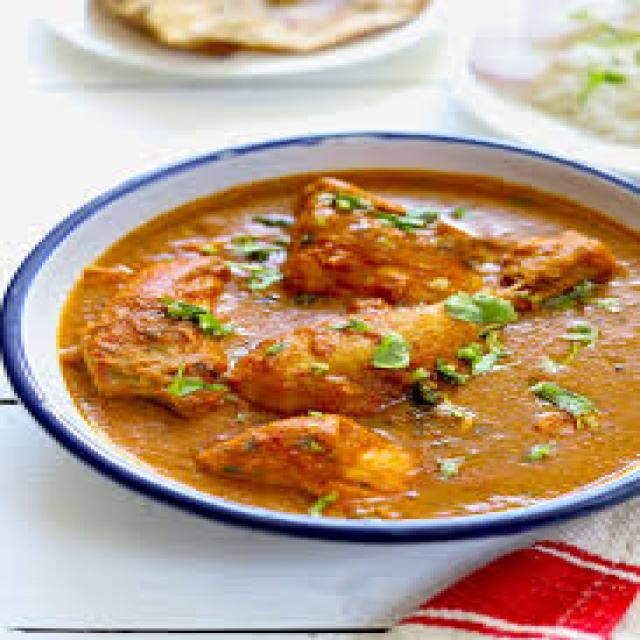Frango: (73, 165, 640, 517)
